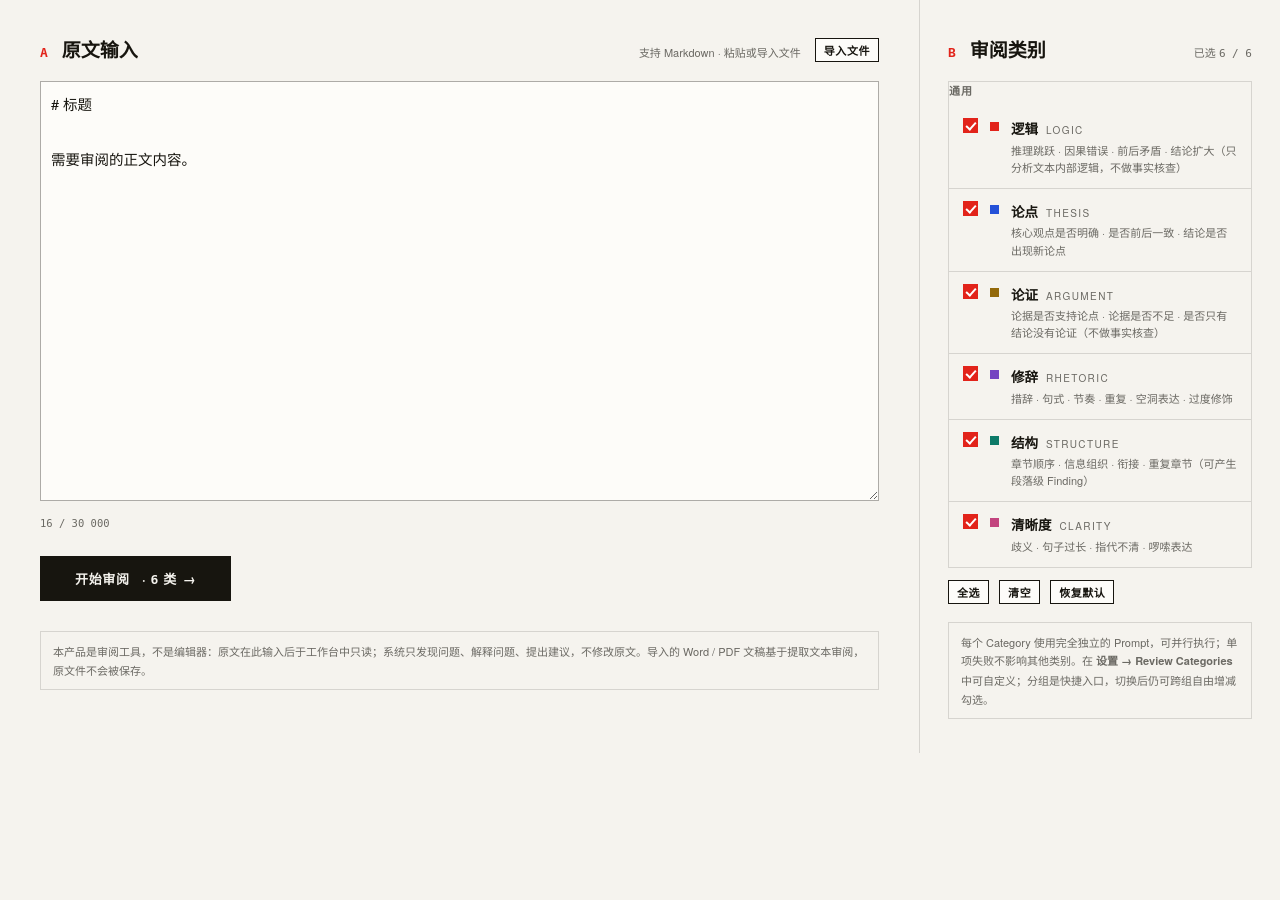
Scenario: 文件导入入口（spec: document-import 支持格式与排除项） › 旧版 .doc：显示「另存为 .docx」指引且不进入解析预览
Click the button with test id "import-entry". click: [847, 50]
box: [815,38,879,62]
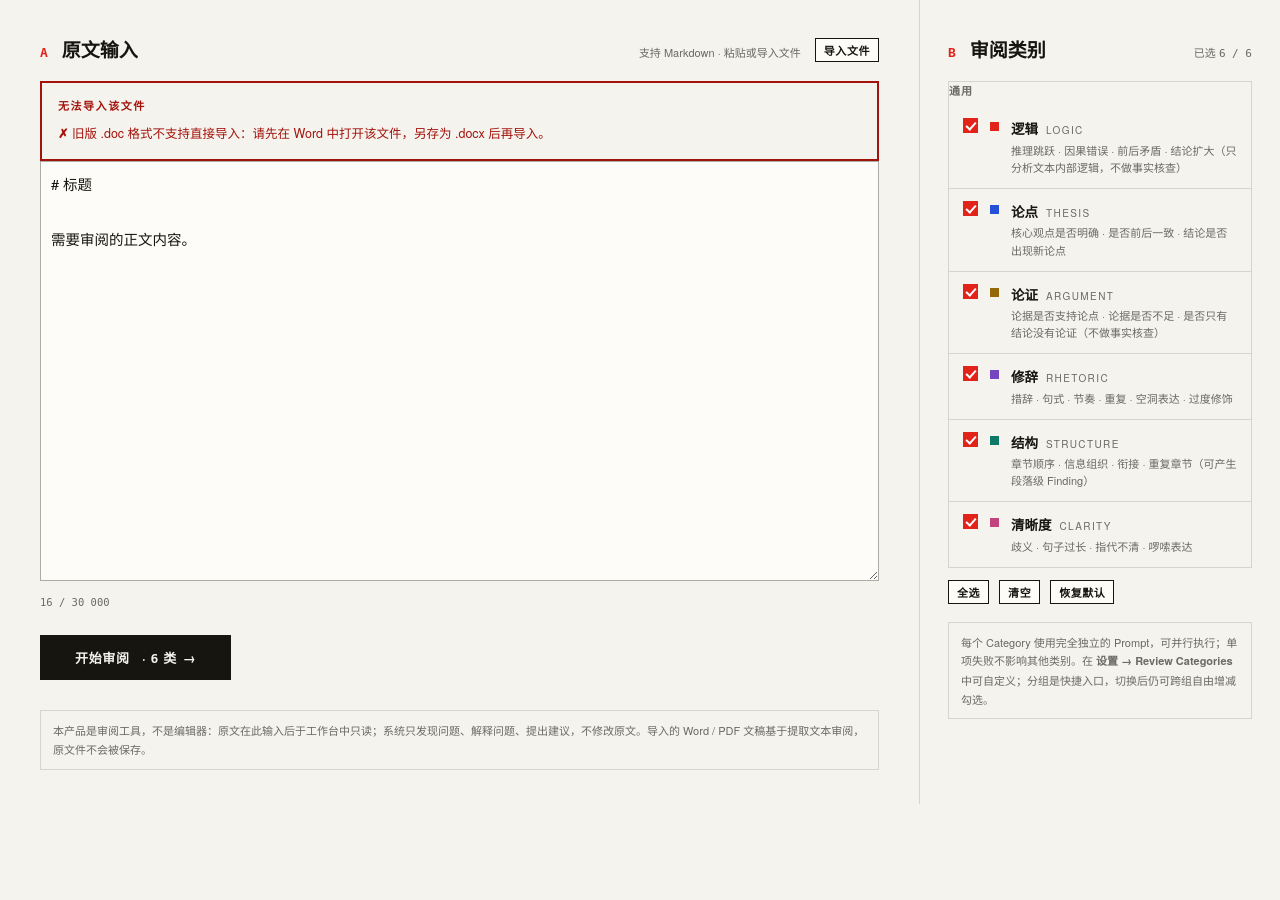
Now the element with test id "import-error" is shown, box [40,81,879,161]
Now the element with test id "import-error" shows "另存为 .docx", box [72,124,551,142]
